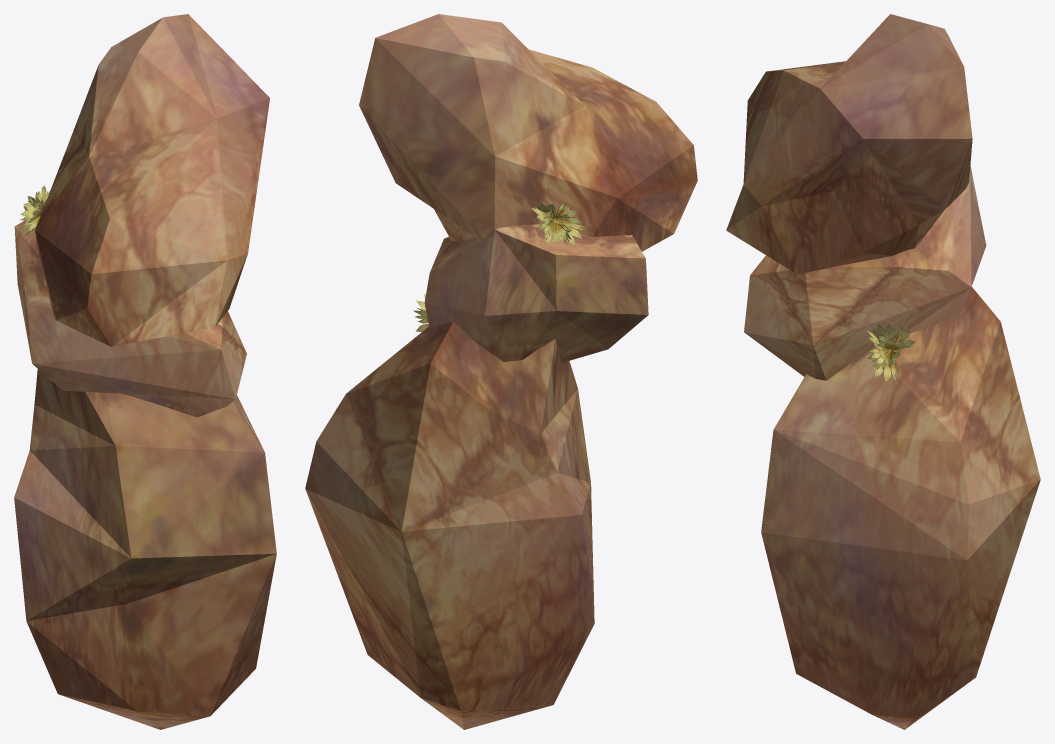
File: C2SNROCKFEAT1H.obj
3 views of the same model, side by side, from view 1: azimuth 30°, elevation 25°; view 2: azimuth 150°, elevation 25°; view 3: azimuth 270°, elevation 25° (orthographic). The views are drawn at different scales.
Parts seen in each view (by area): view 1: Node 0; view 2: Node 0; view 3: Node 0.
Boxes of the visible parts, left/top/right/bottom form: Node 0: left=14, top=14, right=276, bottom=729; Node 0: left=305, top=14, right=697, bottom=729; Node 0: left=726, top=14, right=1040, bottom=729.
Size of the model in its own units: 15.65 by 37.56 by 15.03.
Materials: 1 (1 with a texture image).
